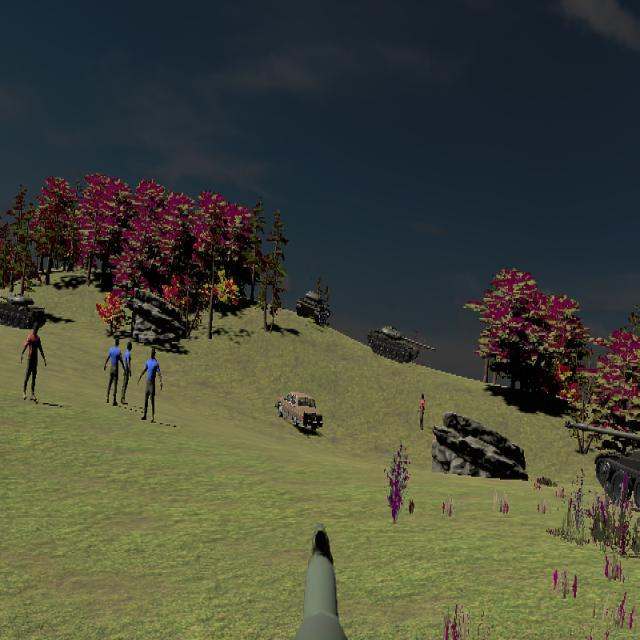Human: (137, 347, 163, 422), (104, 336, 126, 405)
Tank: (564, 419, 640, 519), (367, 324, 438, 364), (0, 292, 46, 329), (296, 289, 332, 325)
car: (275, 390, 324, 433)
